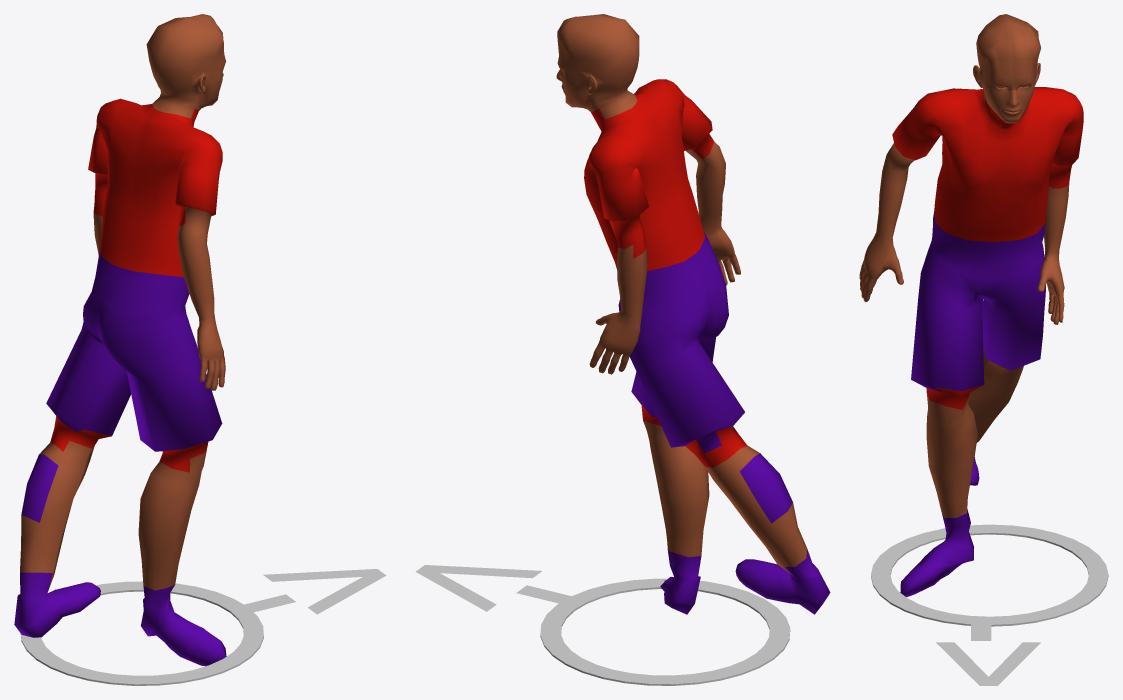
Rendered from player_000025.obj.
The picture shows the model from 3 angles, left to right: view 1: azimuth 30°, elevation 25°; view 2: azimuth 150°, elevation 25°; view 3: azimuth 270°, elevation 25°; orthographic projection. The views are drawn at different scales.
Visible parts, largest first — view 1: soccerplayer.002_mesh.003, Circle, Text.001_Mesh.001; view 2: soccerplayer.002_mesh.003, Circle, Text.001_Mesh.001; view 3: soccerplayer.002_mesh.003, Circle, Text.001_Mesh.001.
Boxes of the visible parts, box(x1,y1,x2,y2) form: soccerplayer.002_mesh.003: box(14, 14, 226, 666); Circle: box(20, 581, 263, 685); Text.001_Mesh.001: box(239, 569, 386, 614); soccerplayer.002_mesh.003: box(556, 14, 830, 614); Circle: box(540, 578, 790, 685); Text.001_Mesh.001: box(415, 565, 574, 611); soccerplayer.002_mesh.003: box(859, 14, 1083, 597); Circle: box(871, 524, 1108, 626); Text.001_Mesh.001: box(936, 618, 1040, 685).
Bounding box in the file's own units: 1.96 × 2.97 × 1.14.
